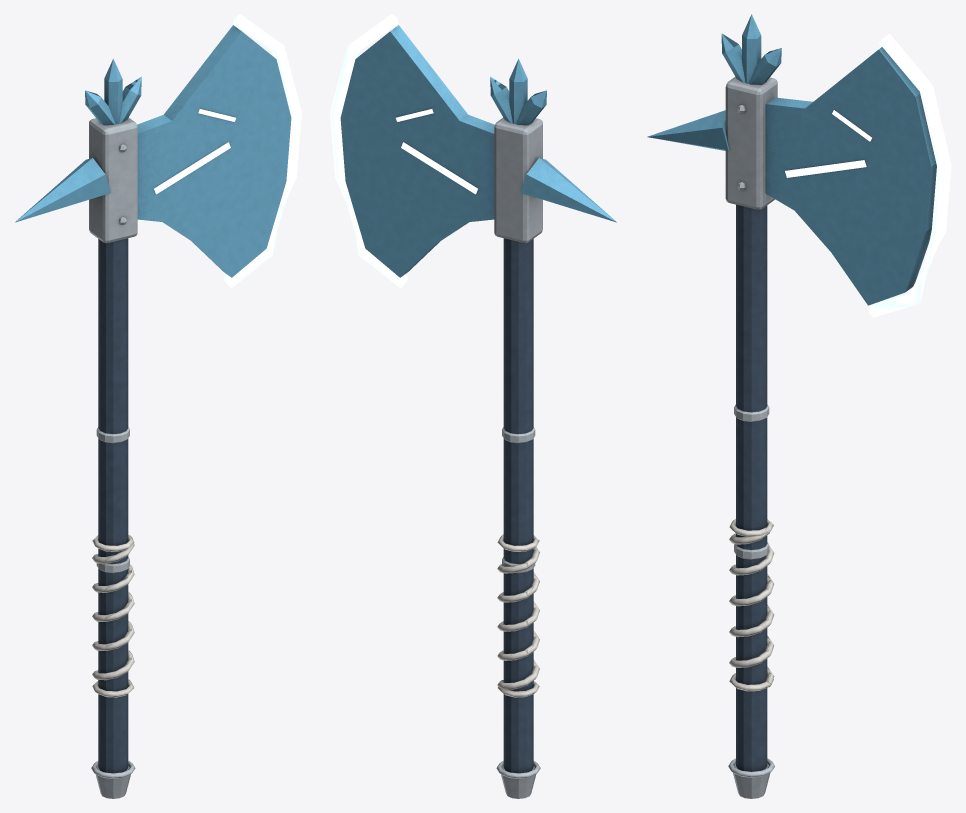
The model's file is 04_tundra_heavy.fbx.
3 views of the same model, side by side, from view 1: azimuth 30°, elevation 25°; view 2: azimuth 150°, elevation 25°; view 3: azimuth 330°, elevation 25° (orthographic). The views are drawn at different scales.
Visible parts, largest first — view 1: Weapon; view 2: Weapon; view 3: Weapon.
Boxes of the visible parts, x1,y1,x2,y2 form: Weapon: (15,14,301,798); Weapon: (330,14,616,798); Weapon: (647,14,951,798).
Size of the model in its own units: 56.12 by 140 by 7.67.
2 materials, 1 textured.
